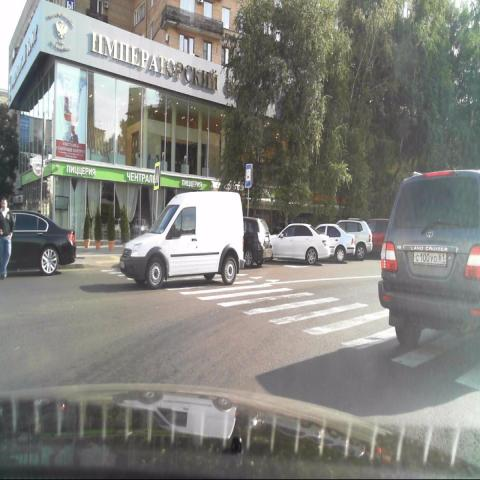5_19_1: (154, 162, 160, 191)
7_5: (245, 163, 253, 188)
